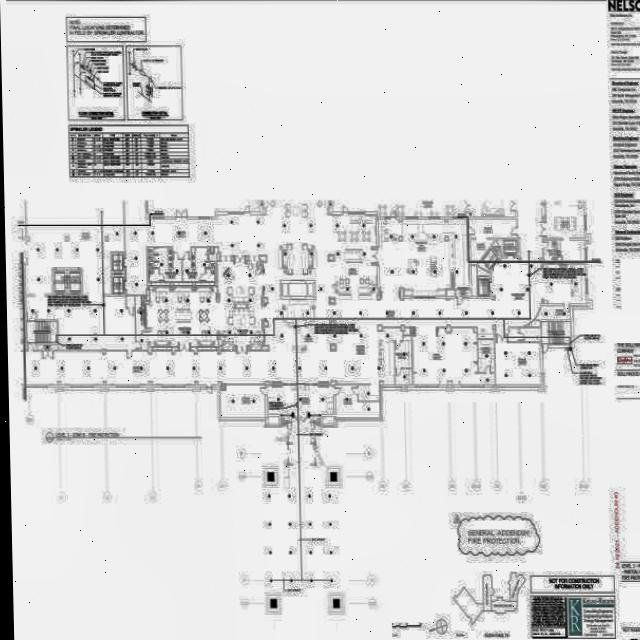room: (102, 215, 530, 335), (25, 319, 297, 387), (495, 343, 541, 385), (221, 385, 266, 417), (336, 385, 380, 417), (136, 335, 218, 350), (59, 335, 136, 350), (182, 248, 208, 282), (26, 314, 57, 342), (267, 386, 298, 414), (159, 247, 182, 282), (219, 335, 264, 350), (541, 322, 571, 343), (395, 336, 412, 368), (478, 340, 494, 373), (358, 385, 380, 400), (395, 369, 413, 385), (149, 269, 159, 282), (37, 344, 58, 350), (206, 269, 215, 282), (126, 296, 135, 307), (149, 248, 158, 254), (149, 255, 158, 261), (149, 262, 158, 268), (206, 262, 215, 268)
